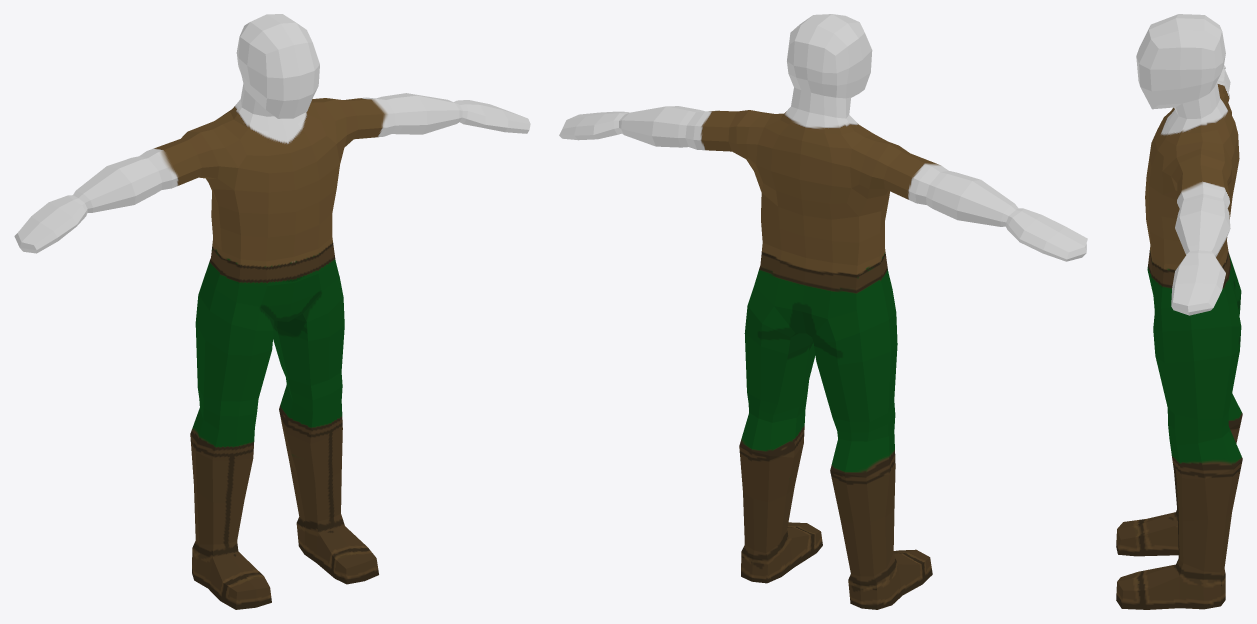
File: infantry.glb
3 renders of one model, left to right at view 1: azimuth 30°, elevation 25°; view 2: azimuth 150°, elevation 25°; view 3: azimuth 270°, elevation 25°, orthographic. The views are drawn at different scales.
Parts seen in each view (by area): view 1: Cube; view 2: Cube; view 3: Cube.
Part boxes in pixels (<box>): Cube: <box>14,14,530,609</box>; Cube: <box>559,14,1087,609</box>; Cube: <box>1116,14,1242,609</box>.
Size of the model in its own units: 11.05 by 11.38 by 2.35.
Materials: 1 (1 with a texture image).
